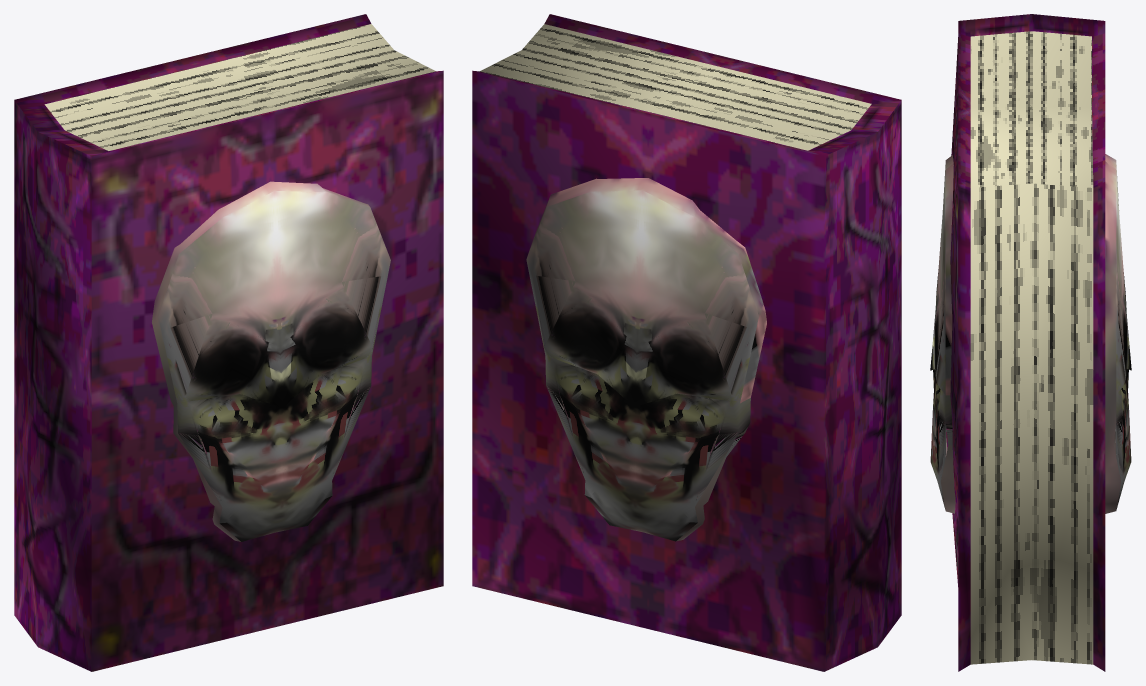
The model's file is magic book.fbx.
3 views of the same model, side by side, from view 1: azimuth 30°, elevation 25°; view 2: azimuth 150°, elevation 25°; view 3: azimuth 270°, elevation 25° (orthographic). The views are drawn at different scales.
Visible parts, largest first — view 1: Cube.001; view 2: Cube.001; view 3: Cube.001.
Part boxes in pixels (x1,y1,x2,y2): Cube.001: [14, 14, 443, 671]; Cube.001: [472, 14, 901, 671]; Cube.001: [930, 14, 1131, 671].
Bounding box in the file's own units: 639 × 857 × 320.
Materials: 3 (3 with a texture image).
